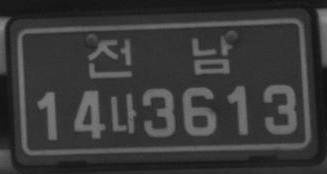1: (224, 84, 257, 137), (33, 90, 64, 142)
3: (261, 83, 299, 137), (141, 87, 176, 139)
4: (71, 89, 107, 141)
6: (180, 85, 218, 138)
나: (109, 91, 138, 135)
전남_D: (86, 33, 233, 80)
